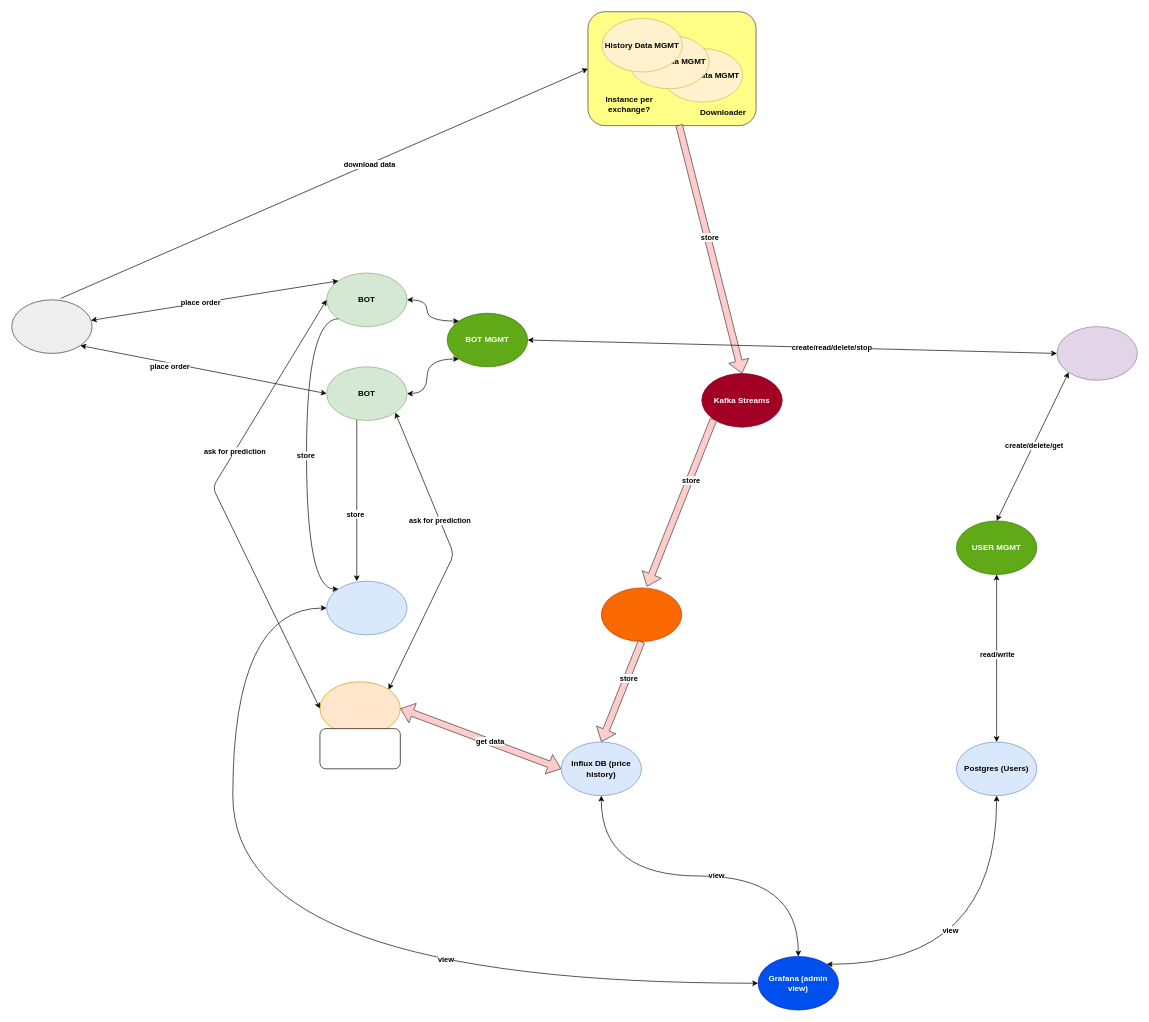
This 1149x1022 diagram has some shape labels left out. Each missing label, with the centre of its shape:
"Cryptocurrency REST API" belongs at point (51, 326).
"Few instances?" belongs at point (359, 748).
"History data writer" belongs at point (641, 614).
"Influx DB (bot logs)" belongs at point (366, 608).
"ML MODEL" belongs at point (359, 708).
"REST API" belongs at point (1096, 353).
